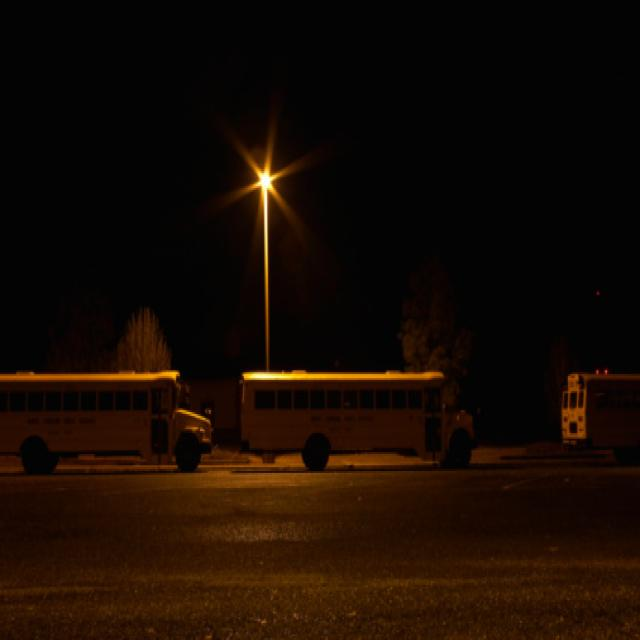Bus: (0, 356, 222, 497), (237, 356, 481, 482), (547, 331, 640, 469)
